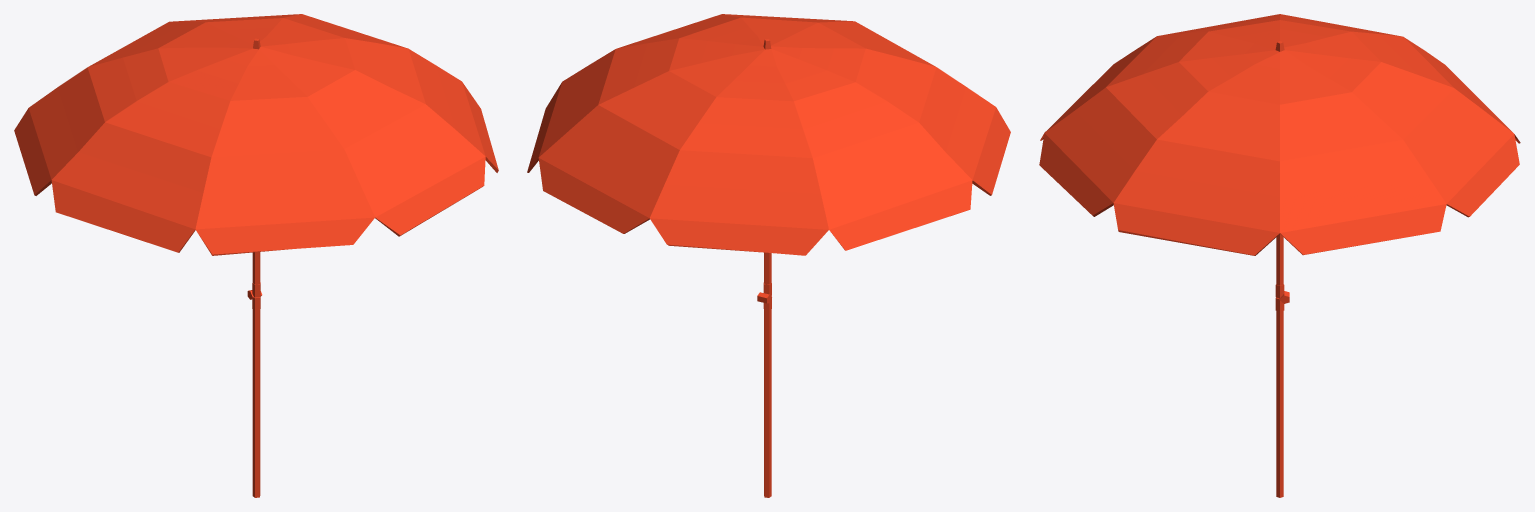
File: SM_Umbrella_C_City.fbx
The picture shows the model from 3 angles, left to right: view 1: azimuth 30°, elevation 25°; view 2: azimuth 150°, elevation 25°; view 3: azimuth 270°, elevation 25°; orthographic projection.
Visible parts, largest first — view 1: SM_Umbrella_C_City; view 2: SM_Umbrella_C_City; view 3: SM_Umbrella_C_City.
Boxes of the visible parts, x1,y1,x2,y2 form: SM_Umbrella_C_City: [14, 14, 498, 497]; SM_Umbrella_C_City: [527, 14, 1010, 497]; SM_Umbrella_C_City: [1039, 14, 1520, 497].
Bounding box in the file's own units: 2.11 × 2.17 × 2.09.
